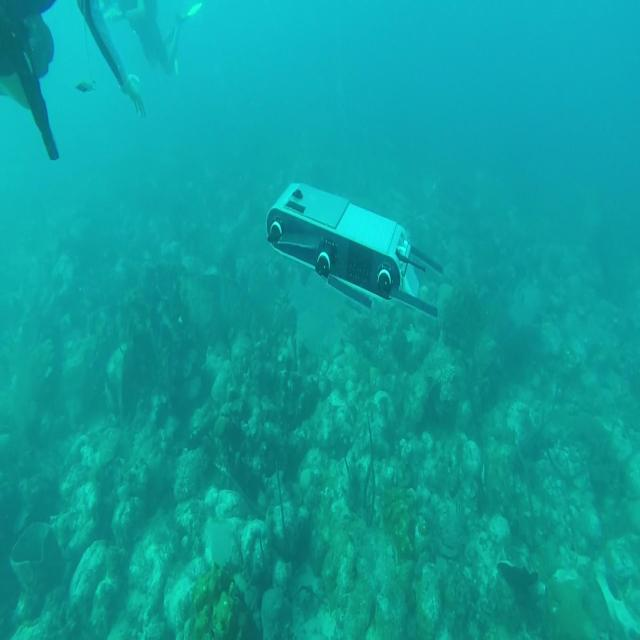human: (0, 0, 199, 161), (0, 0, 59, 161)
